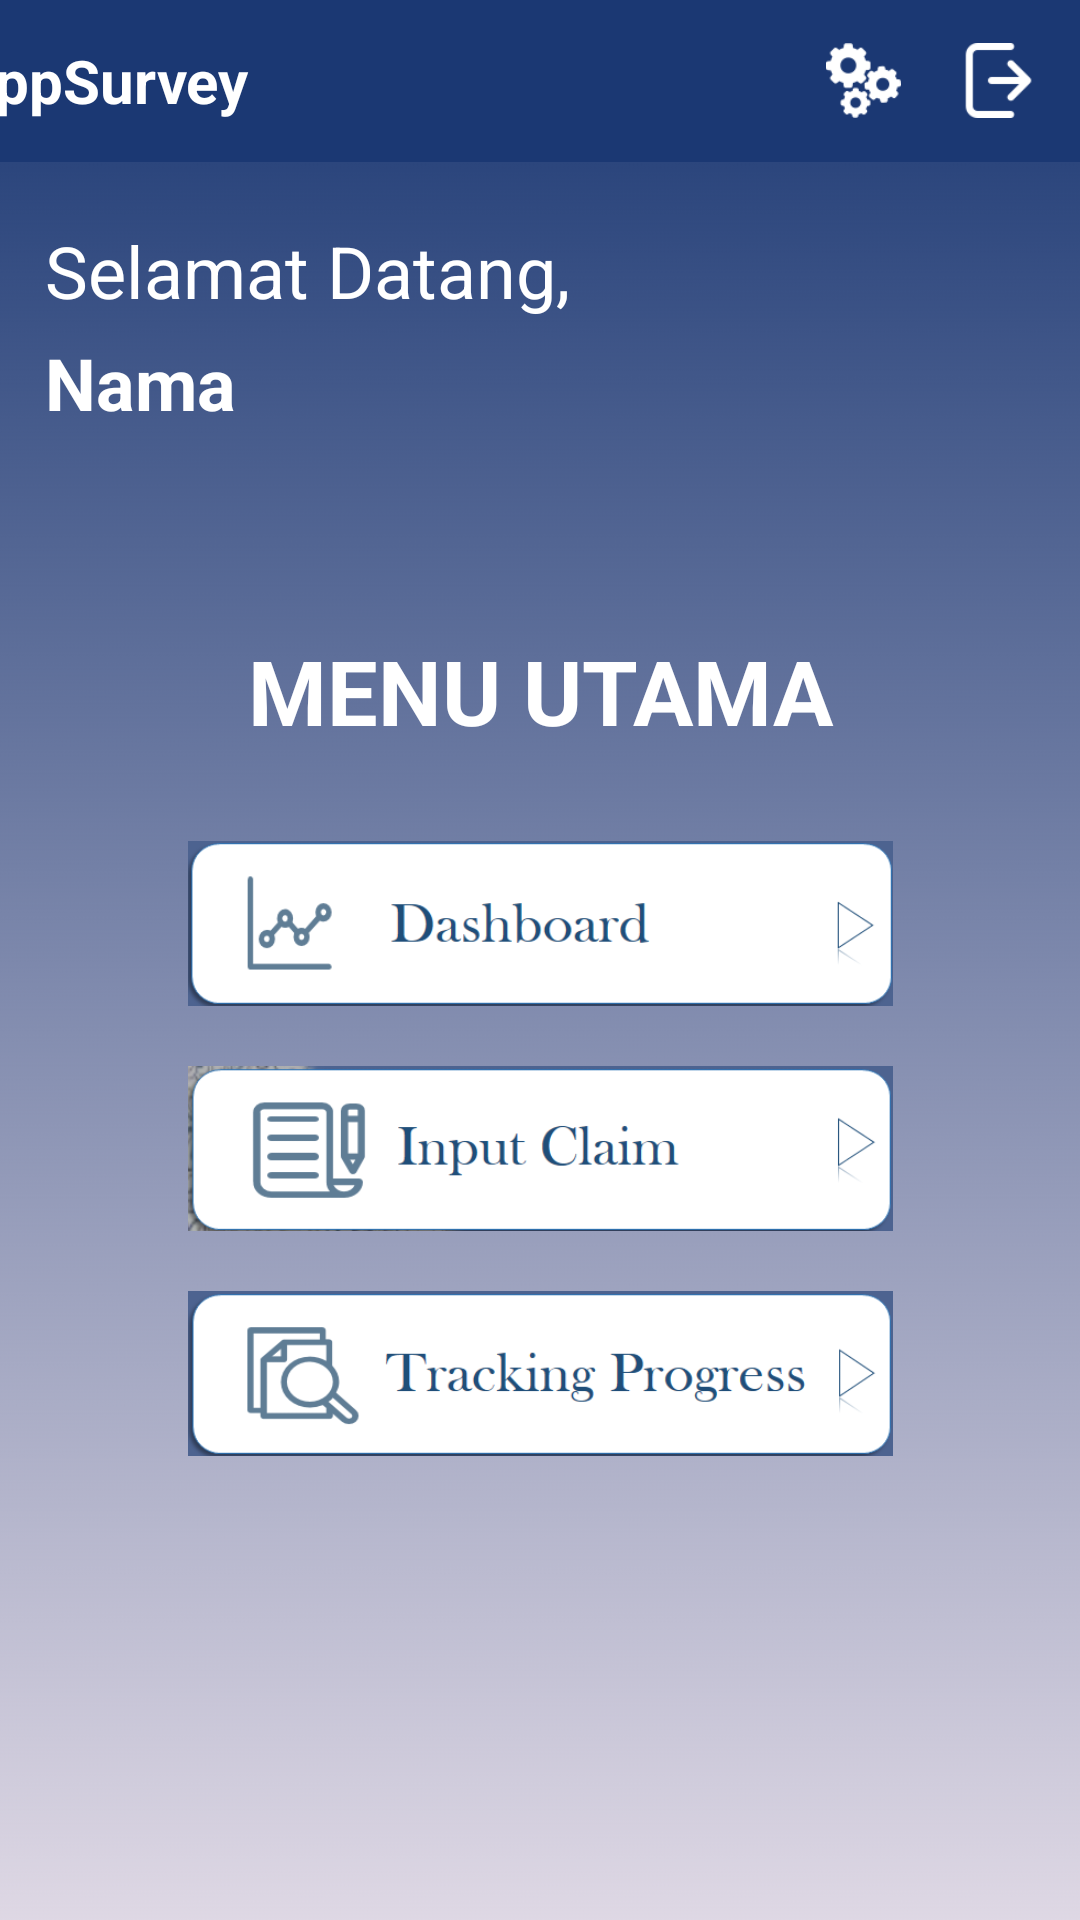

Icon click points for this 1080 × 1920 phone screenshot, format [x,y]:
settings gears: [863,80]
